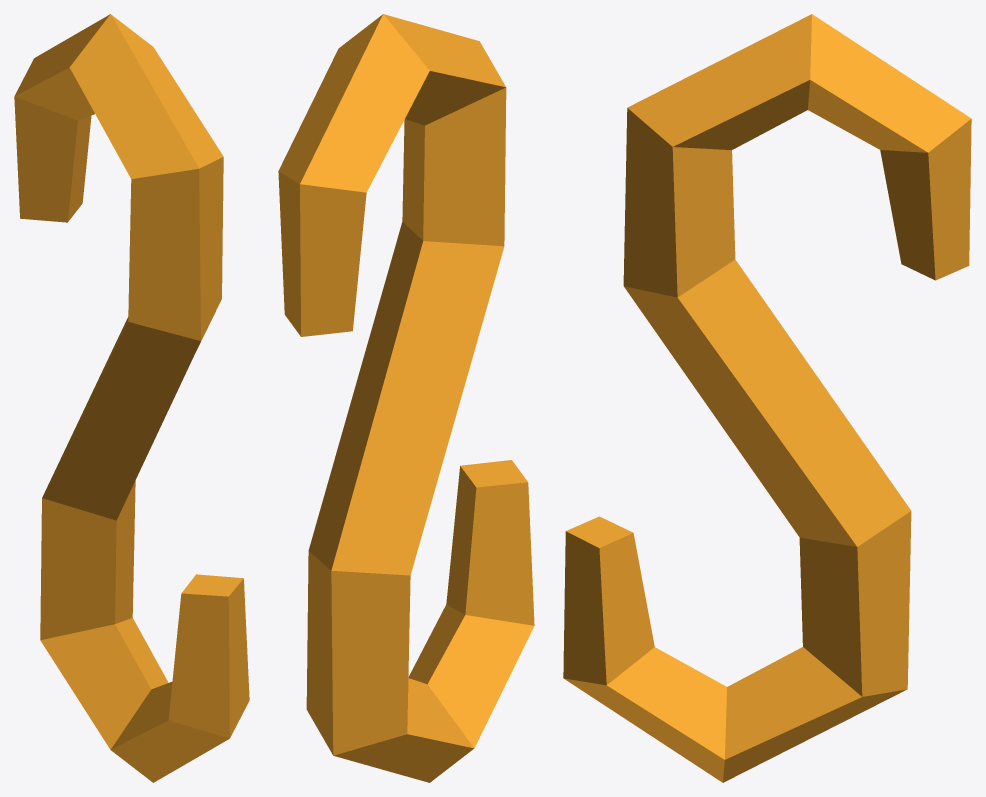
The model's file is SM_Kitchen_Hook_Small_Fantasy.fbx.
The picture shows the model from 3 angles, left to right: view 1: azimuth 30°, elevation 25°; view 2: azimuth 150°, elevation 25°; view 3: azimuth 270°, elevation 25°; orthographic projection. The views are drawn at different scales.
Visible parts, largest first — view 1: kitchen-hook-small-fantasy; view 2: kitchen-hook-small-fantasy; view 3: kitchen-hook-small-fantasy.
Part boxes in pixels (box(x1,y1,x2,y2)): kitchen-hook-small-fantasy: box(14, 14, 249, 782); kitchen-hook-small-fantasy: box(278, 14, 534, 782); kitchen-hook-small-fantasy: box(563, 14, 971, 782).
Bounding box in the file's own units: 0.0208 × 0.1567 × 0.0754.
